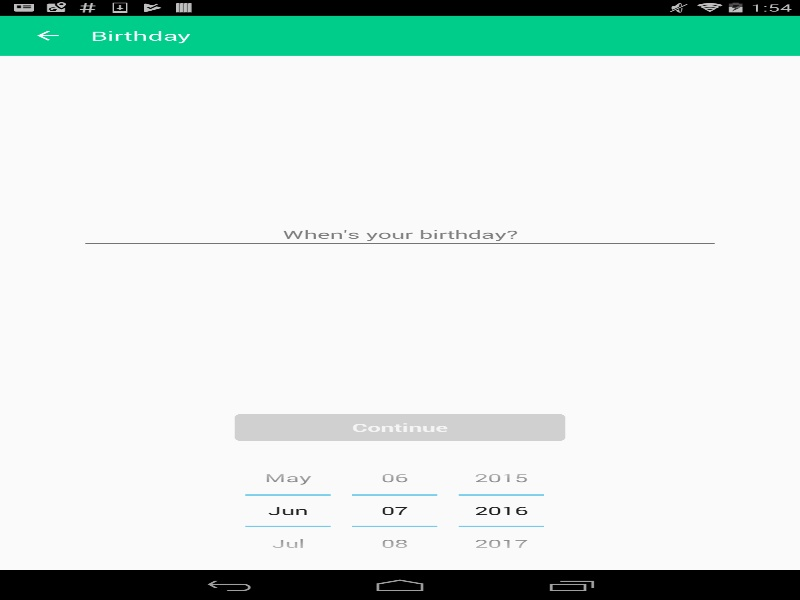Button: (234, 413, 565, 441), (458, 525, 544, 560), (245, 525, 330, 560), (352, 525, 437, 560), (458, 461, 544, 495), (245, 461, 330, 495), (352, 461, 437, 495), (10, 18, 85, 53)
Input: (80, 220, 720, 248), (458, 495, 544, 525), (245, 495, 330, 525), (352, 495, 437, 525)
